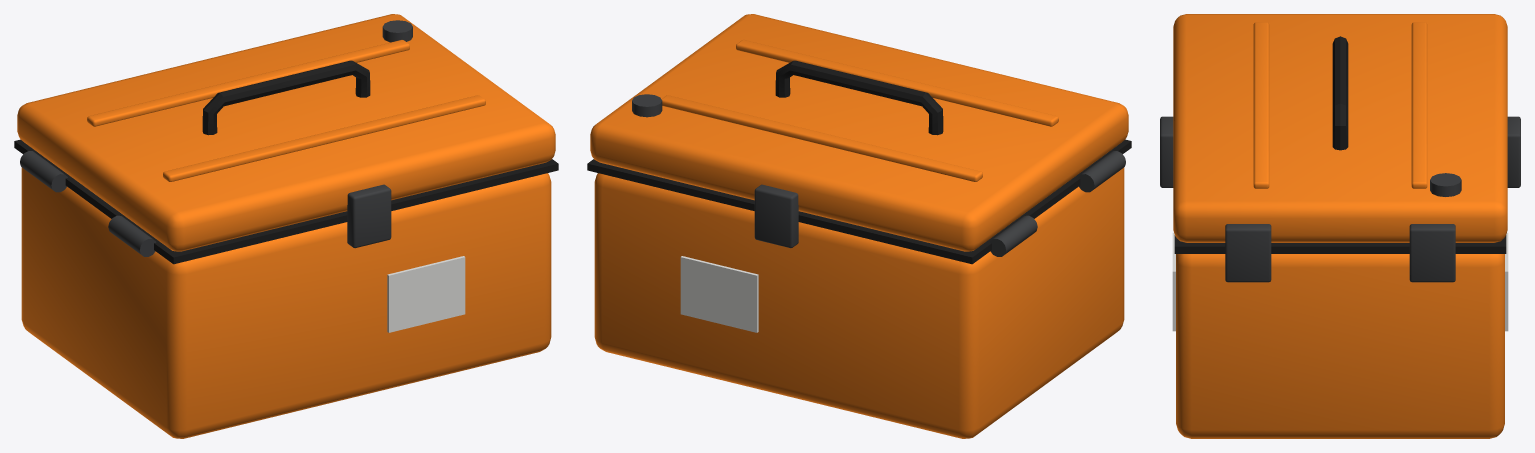
Rendered from payload_box.glb.
The picture shows the model from 3 angles, left to right: view 1: azimuth 30°, elevation 25°; view 2: azimuth 150°, elevation 25°; view 3: azimuth 270°, elevation 25°; orthographic projection. The views are drawn at different scales.
Visible parts, largest first — view 1: payload_box; view 2: payload_box; view 3: payload_box.
Part boxes in pixels (x1,y1,x2,y2): payload_box: (14, 14, 558, 438); payload_box: (587, 14, 1131, 438); payload_box: (1160, 14, 1520, 438).
Bounding box in the file's own units: 0.376 × 0.232 × 0.274.
